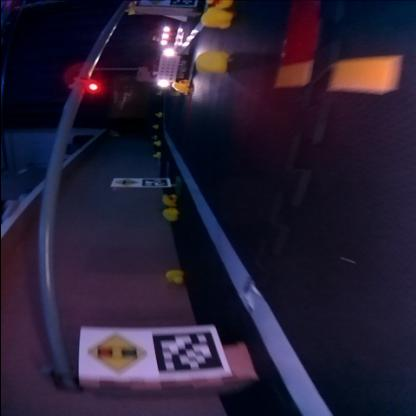Duckie: (195, 52, 227, 74), (201, 7, 232, 29), (164, 271, 182, 284), (171, 80, 188, 93), (160, 209, 176, 222), (160, 194, 174, 206), (152, 154, 160, 158)
Duckiebot: (148, 54, 182, 88), (155, 26, 173, 46)
Intersection sign: (112, 179, 138, 187)
QR code: (149, 332, 221, 378), (142, 179, 166, 187)
Signal sign: (82, 334, 146, 376)
Traffic light: (84, 82, 100, 94)
